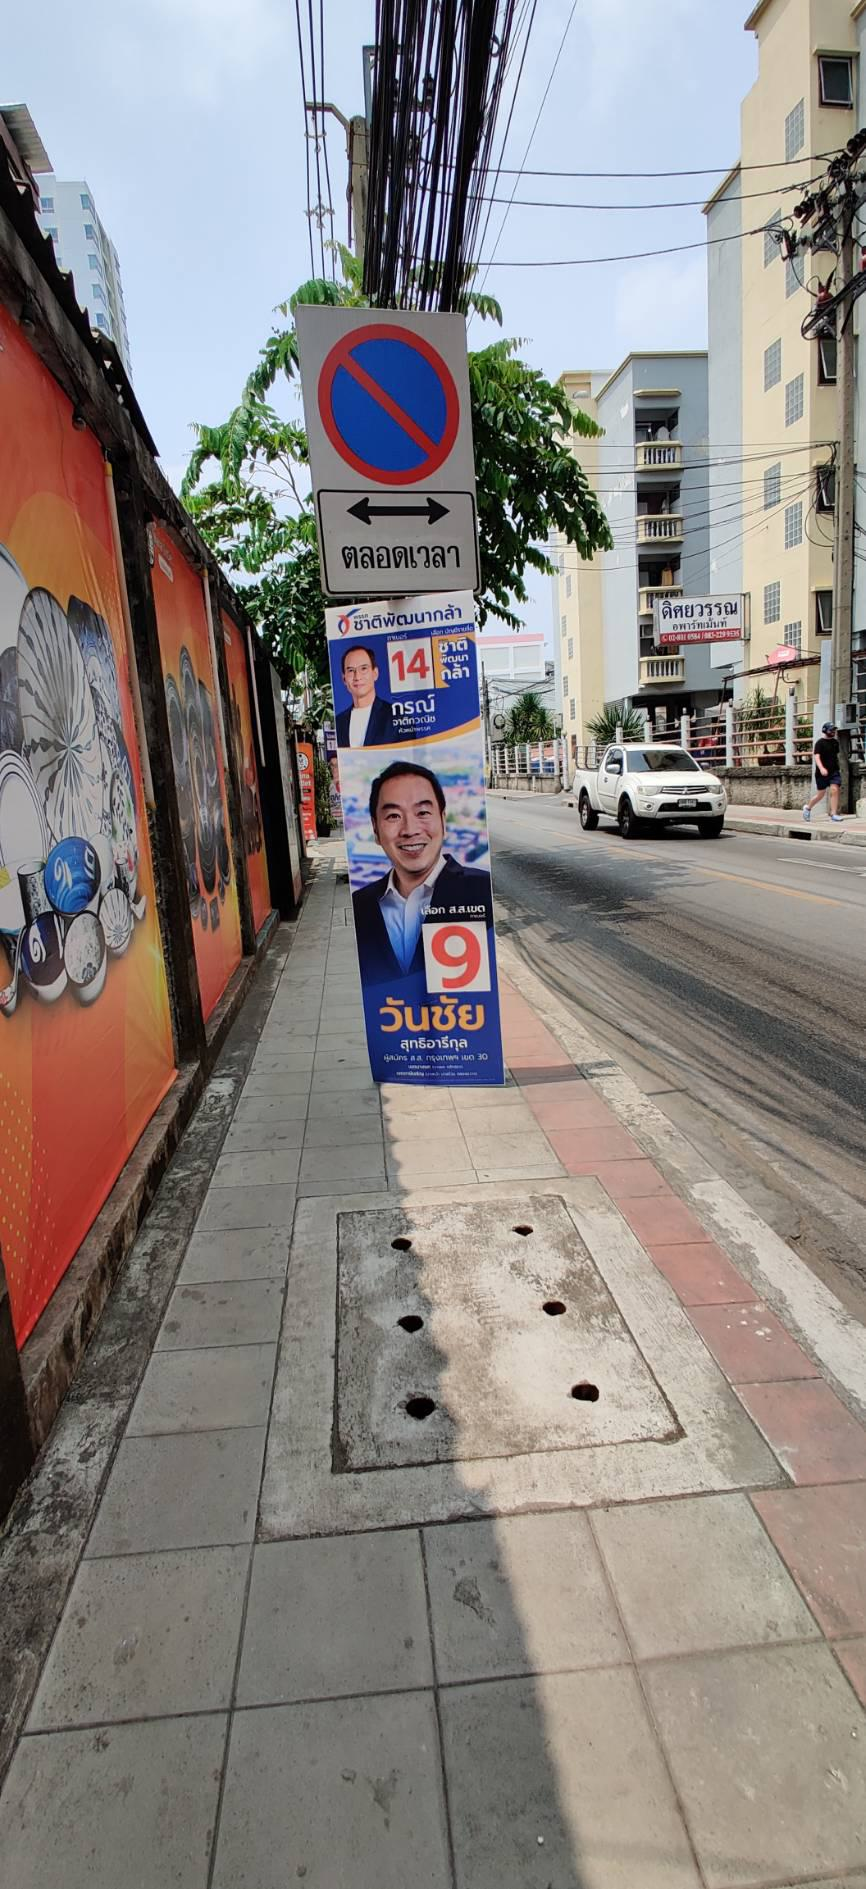Banner: (300, 594, 497, 1082)
